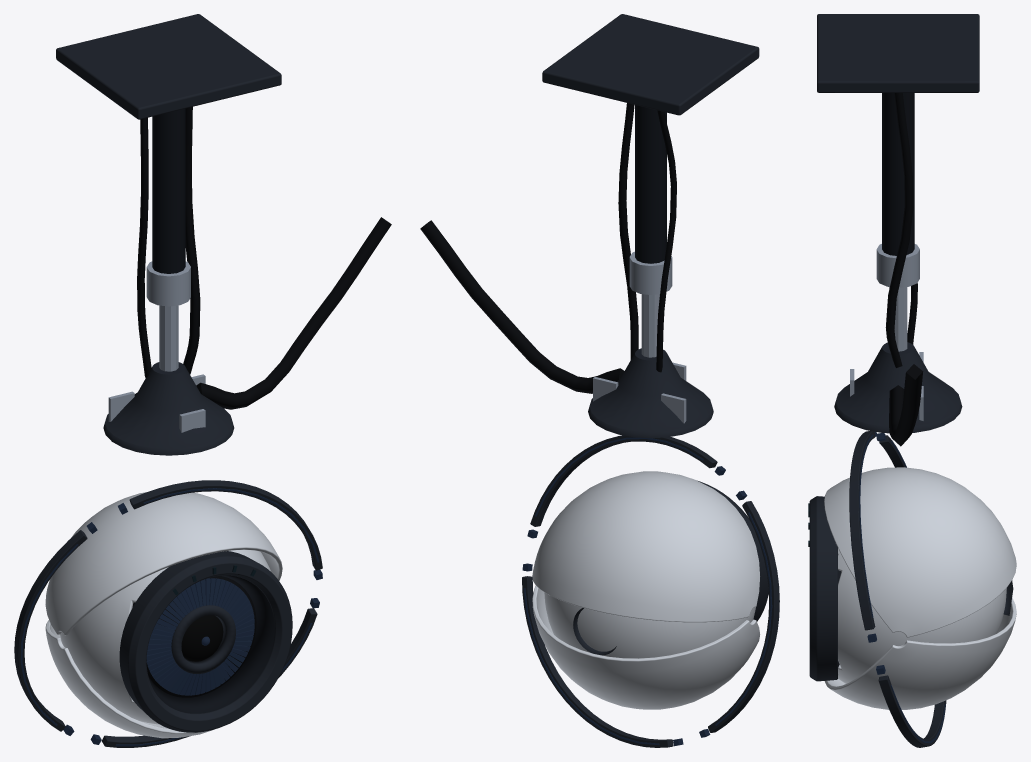
Rendered from ch1-scorer-smooth.glb.
The picture shows the model from 3 angles, left to right: view 1: azimuth 30°, elevation 25°; view 2: azimuth 150°, elevation 25°; view 3: azimuth 270°, elevation 25°; orthographic projection. The views are drawn at different scales.
Parts seen in each view (by area): view 1: lid_top, mount_plate, bezel, crown, bulb, ring_outer_band, housing, mount_sleeve, mount, mount_feed, throat, lid_bottom (+6 smaller); view 2: lid_top, mount_plate, lid_bottom, ring_outer_band, crown, housing, mount_sleeve, mount, mount_feed, mount_rod, ring_outer_nodes, crown_fins (+1 smaller); view 3: lid_top, mount_plate, lid_bottom, housing, crown, bezel, mount_sleeve, ring_outer_band, mount, mount_rod, mount_feed, ring_outer_nodes.
Boxes of the visible parts, <box> form: lid_top: <box>45,492,282,635</box>; mount_plate: <box>56,14,281,119</box>; bezel: <box>119,551,292,732</box>; crown: <box>103,362,234,455</box>; bulb: <box>146,578,254,695</box>; ring_outer_band: <box>14,480,322,747</box>; housing: <box>60,549,270,724</box>; mount_sleeve: <box>152,108,185,273</box>; mount: <box>137,106,200,377</box>; mount_feed: <box>196,217,391,409</box>; throat: <box>148,575,274,713</box>; lid_bottom: <box>45,620,213,738</box>; lid_top: <box>532,471,760,622</box>; mount_plate: <box>542,14,759,115</box>; lid_bottom: <box>532,585,760,709</box>; ring_outer_band: <box>522,435,779,747</box>; crown: <box>588,348,713,438</box>; housing: <box>544,592,755,658</box>; mount_sleeve: <box>635,105,666,263</box>; mount: <box>618,103,676,372</box>; mount_feed: <box>420,220,624,393</box>; mount_rod: <box>629,251,672,357</box>; ring_outer_nodes: <box>522,437,772,746</box>; crown_fins: <box>593,362,686,423</box>; lid_top: <box>824,467,1016,637</box>; mount_plate: <box>817,14,979,92</box>; lid_bottom: <box>824,597,1016,709</box>; housing: <box>838,548,1006,683</box>; crown: <box>834,342,962,433</box>; bezel: <box>809,496,840,681</box>; mount_sleeve: <box>882,93,914,255</box>; ring_outer_band: <box>849,431,946,747</box>; mount: <box>885,93,917,367</box>; mount_rod: <box>876,244,919,351</box>; mount_feed: <box>889,364,923,446</box>; ring_outer_nodes: <box>849,431,945,743</box>.
Bounding box in the file's own units: 0.7757 × 1.39 × 0.3844.
